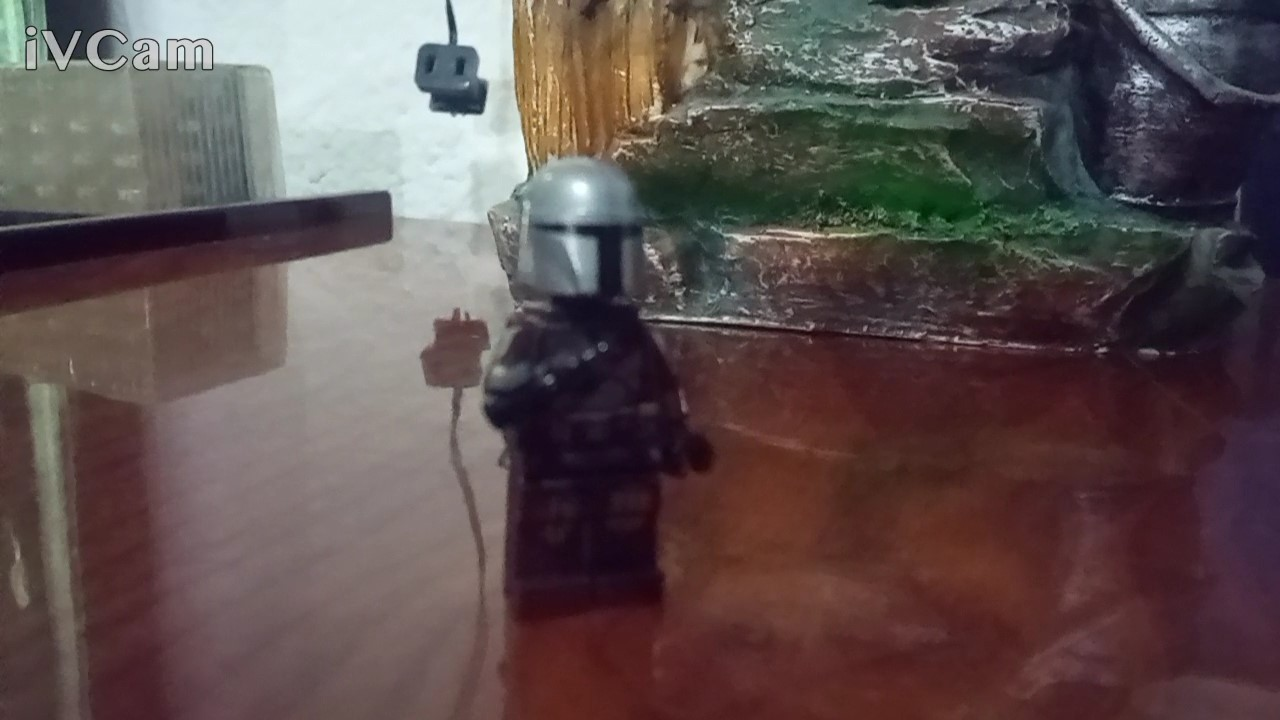mandalorian: (468, 139, 794, 631)
